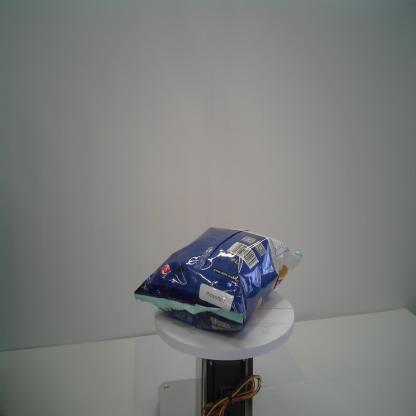Puffed Food: (134, 226, 303, 332)
